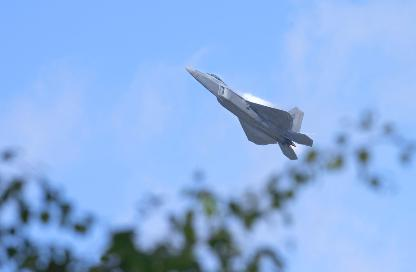F18: (184, 66, 312, 159)
